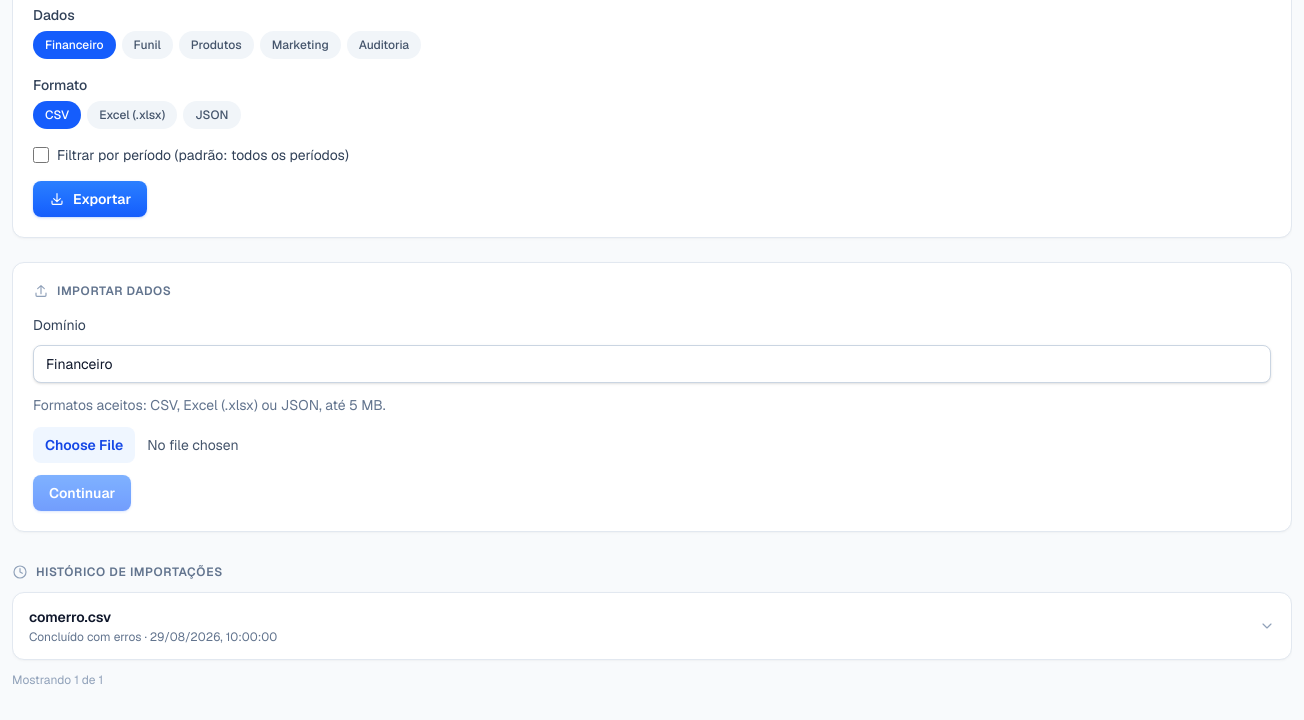
Scenario: CentralDeDadosPage › mostra 'Ver erros' para um job com linhas inválidas e lista os erros ao clicar
(page scrolled)
Expected: the text "comerro.csv" is shown, [29,608,111,626]
Conteúdo do acordeão abre ao clicar no cabeçalho (AccordionItem).
Click the button "comerro.csv Concluído com erros · 29/08/2026, 10:00:00": (70, 617) [13,593,1291,659]
(page scrolled)
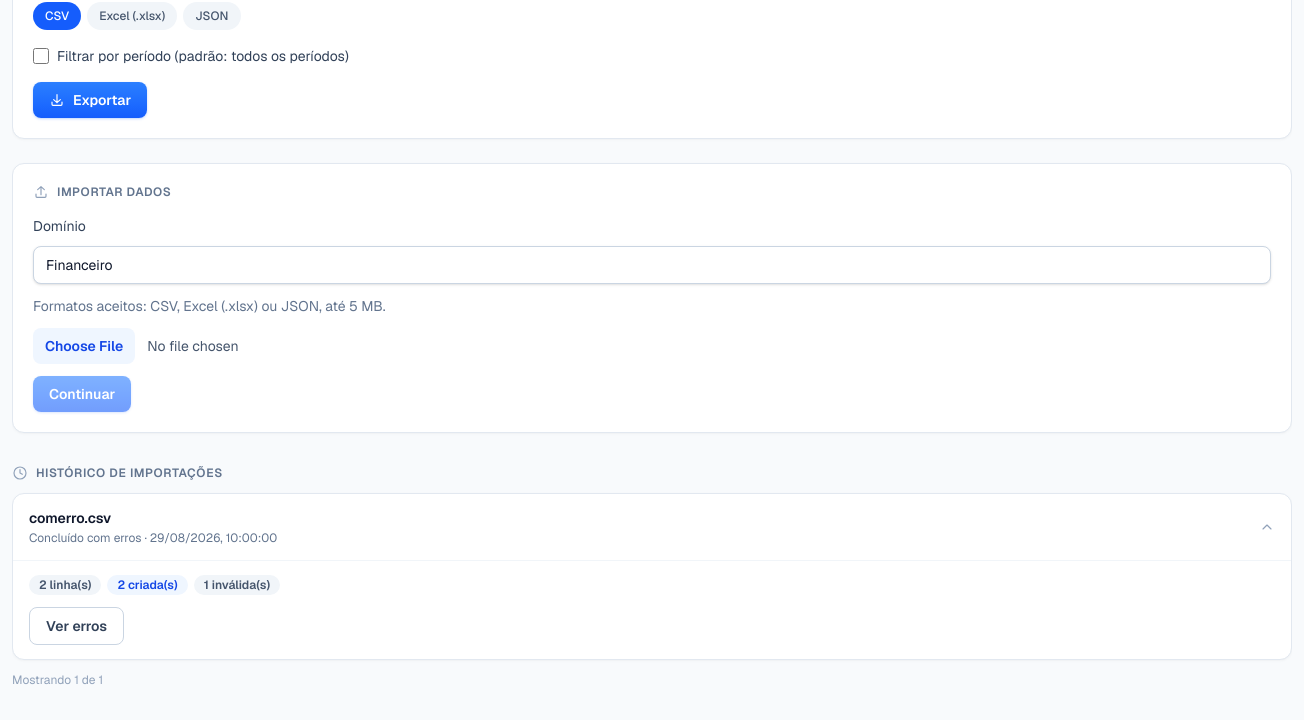
Click the button "Ver erros": (76, 626) [29,607,124,645]
(page scrolled)
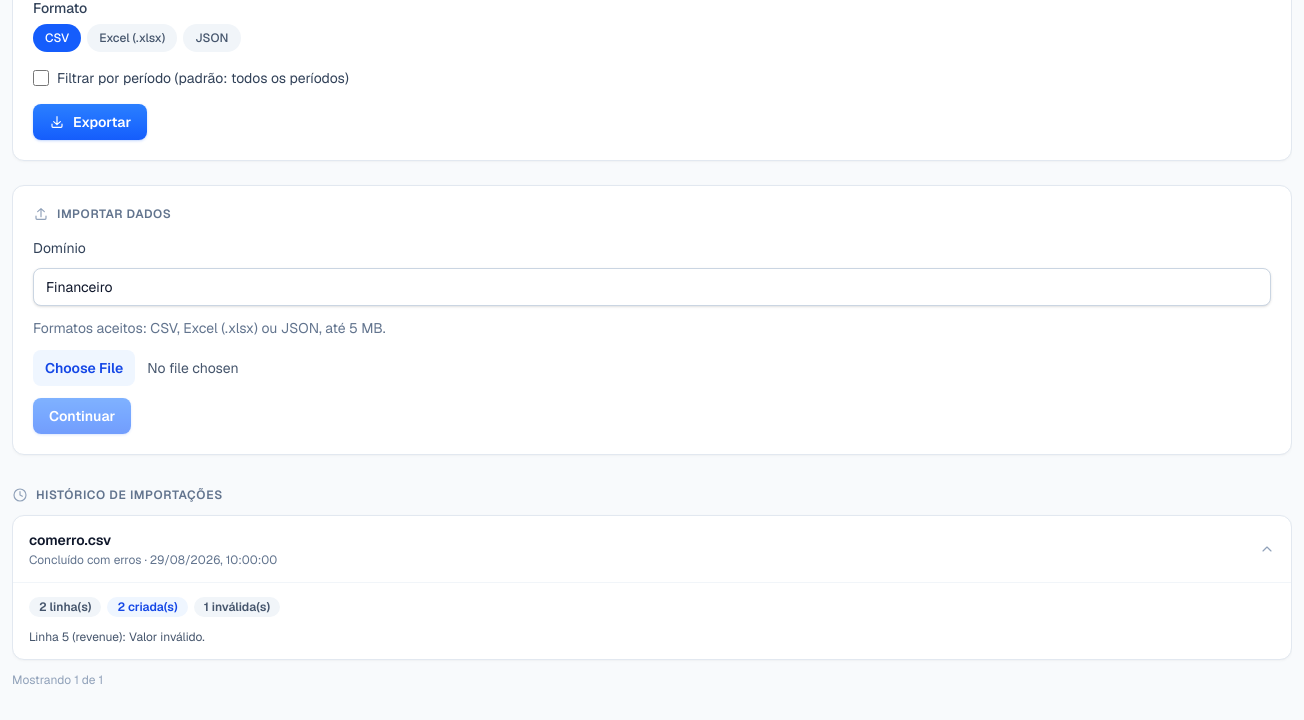
Now the list item "Linha 5 (revenue): Valor inválido." is shown, box [29,629,205,645]
